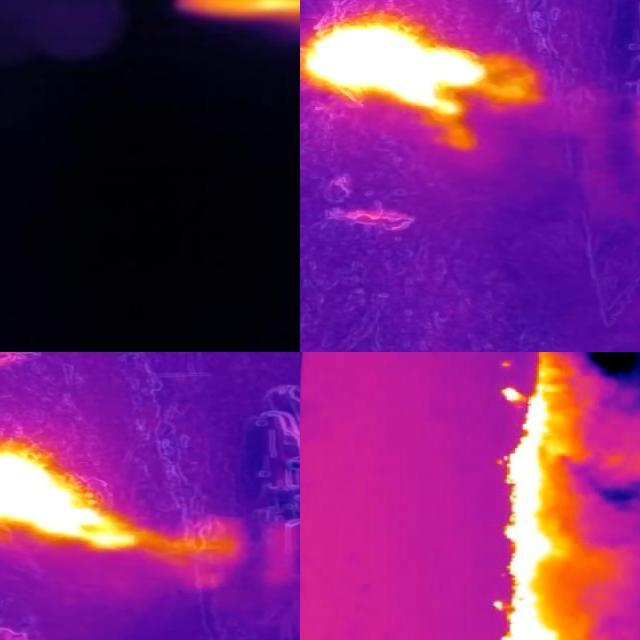fire: (474, 353, 616, 640), (301, 19, 499, 117), (1, 446, 149, 552), (173, 1, 301, 21)
